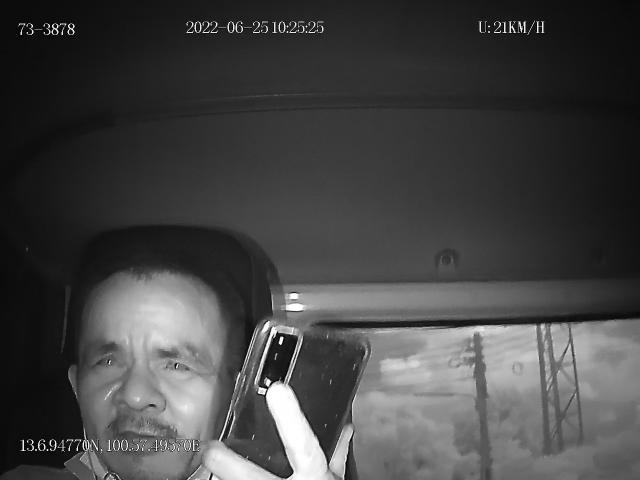PhoneUse: (212, 316, 372, 480)
SafeDriving: (82, 342, 130, 378), (153, 346, 199, 378)
